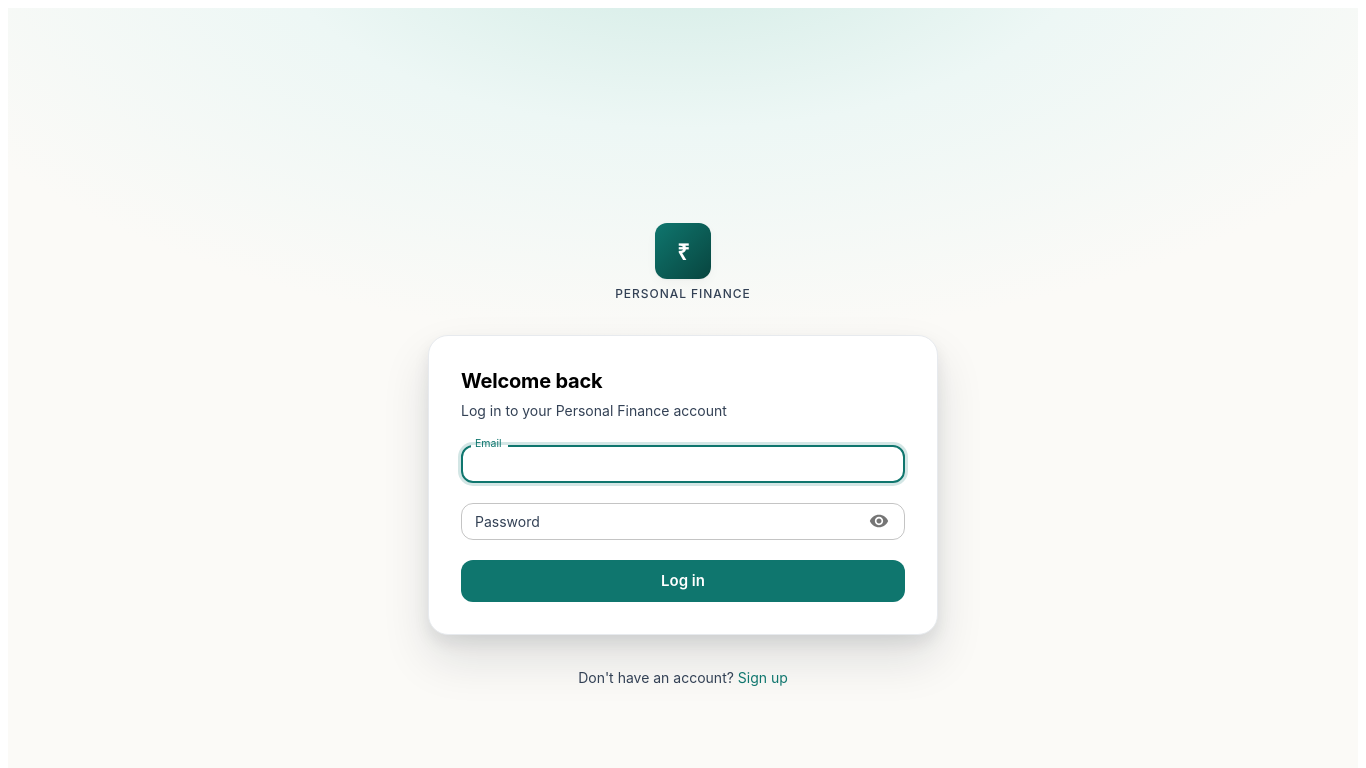
Test case: LoginPage › surfaces a friendly message on 401
The width and height of the screenshot is (1366, 768).
Step 1. Type "a@example.com" into the field labelled "Email" → (683, 464), box 461,445 -> 905,482
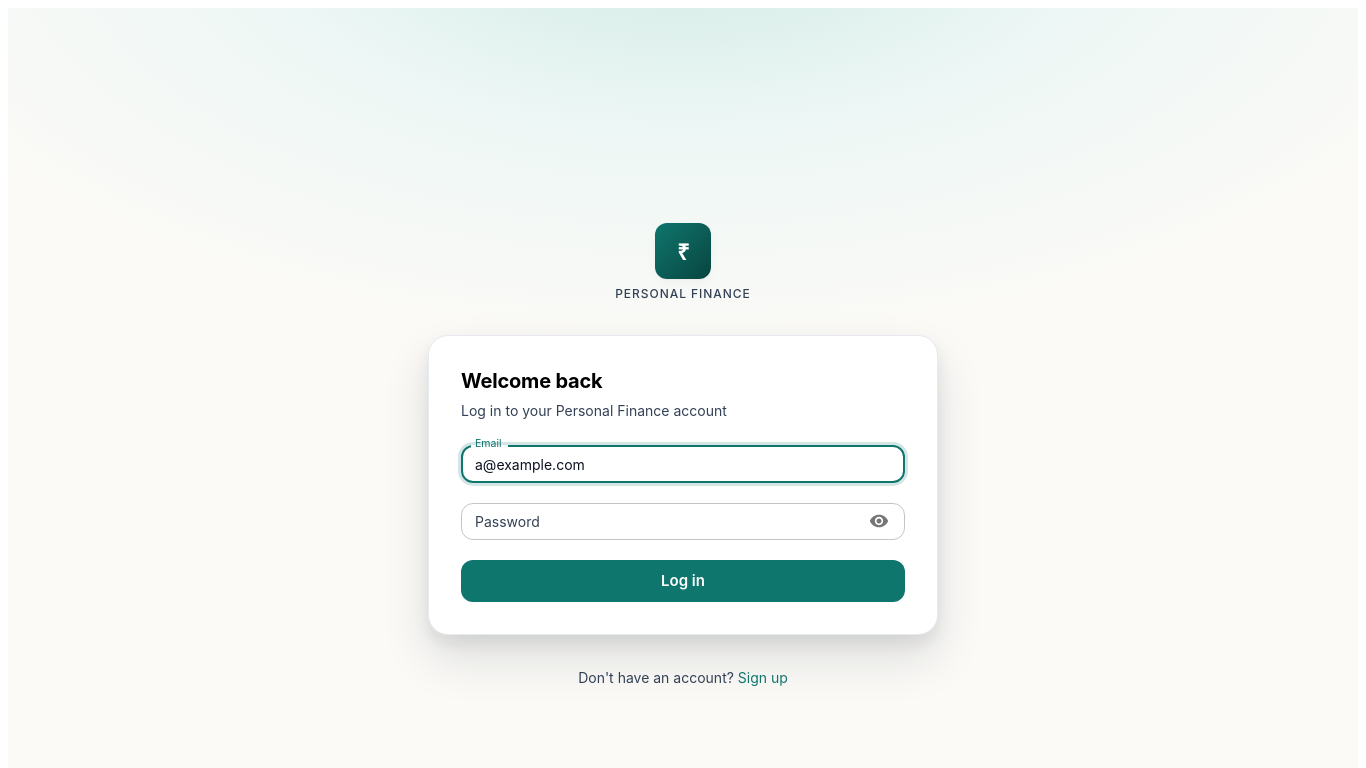
Step 2. Type "password123" into the password field labelled "Password" → (658, 521), box 461,503 -> 856,540
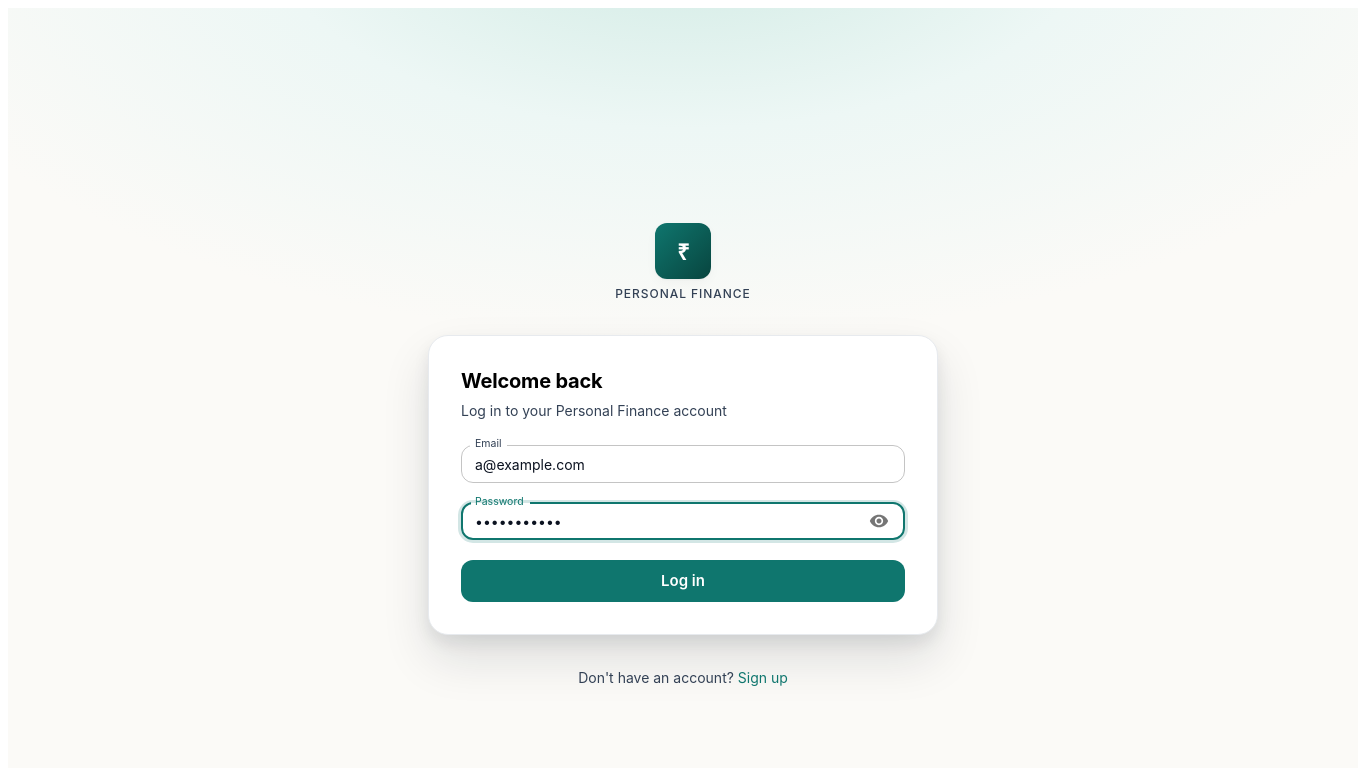
Step 3. Click the button "Log in" → (683, 581), box 461,560 -> 905,602
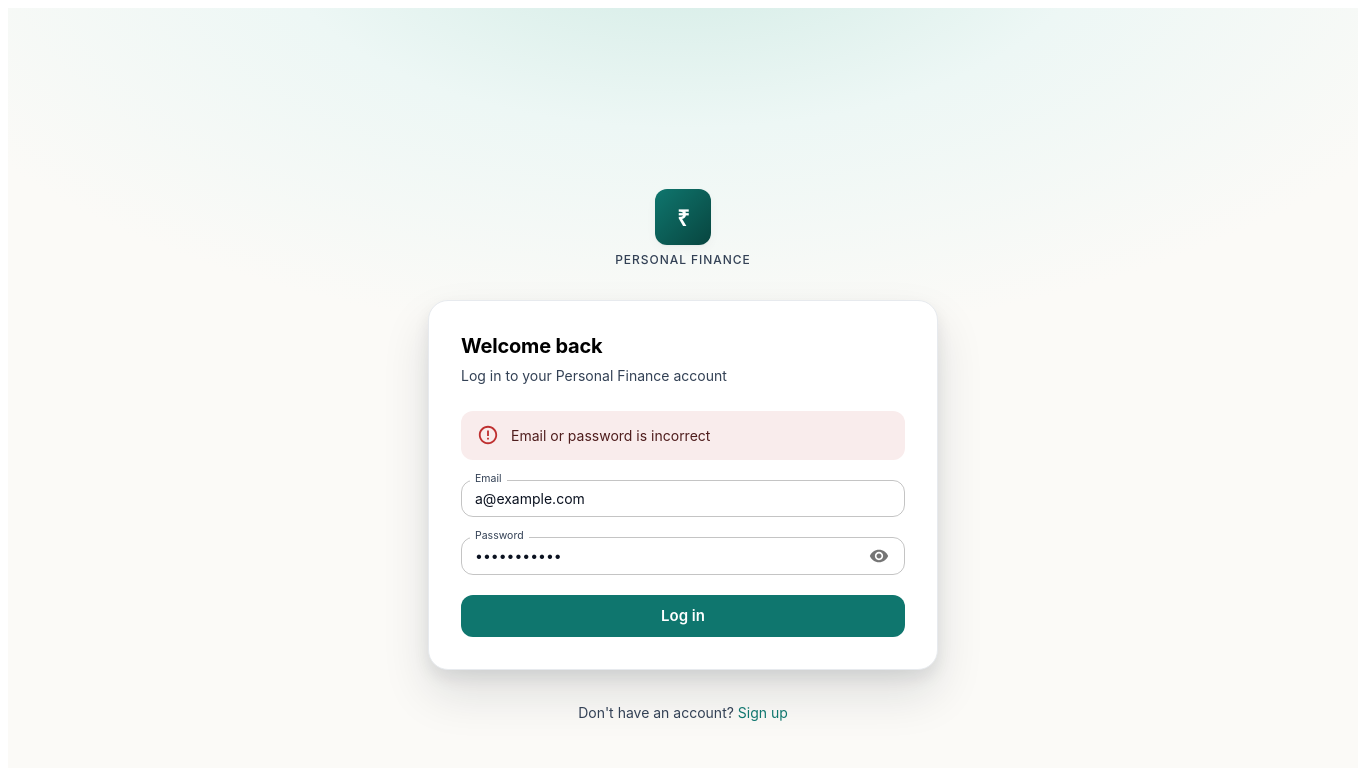
Check: the text "Email or password is incorrect" is shown, box 511,427 -> 710,444
